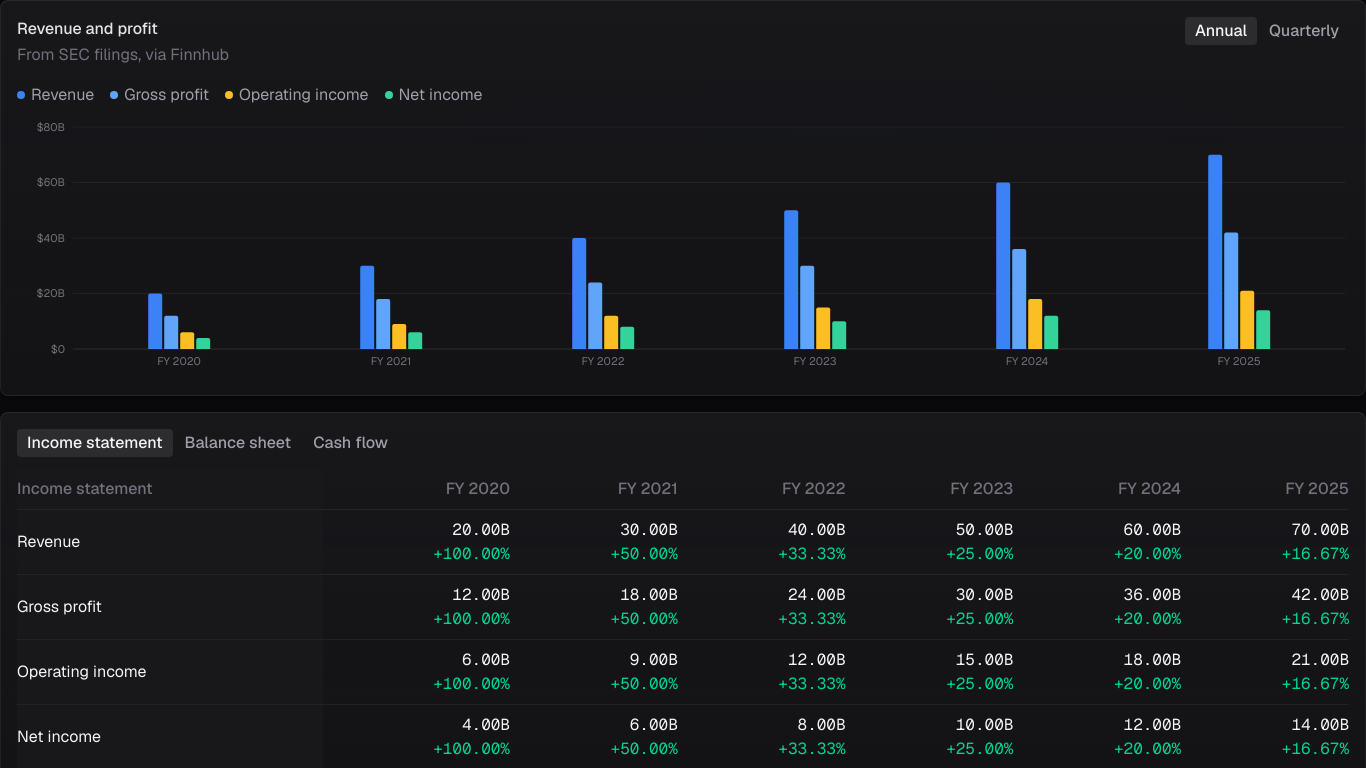
FinancialsTab › switches to quarters
The image size is (1366, 768).
Click the button "Quarterly": (1304, 31) [1259,17,1349,45]
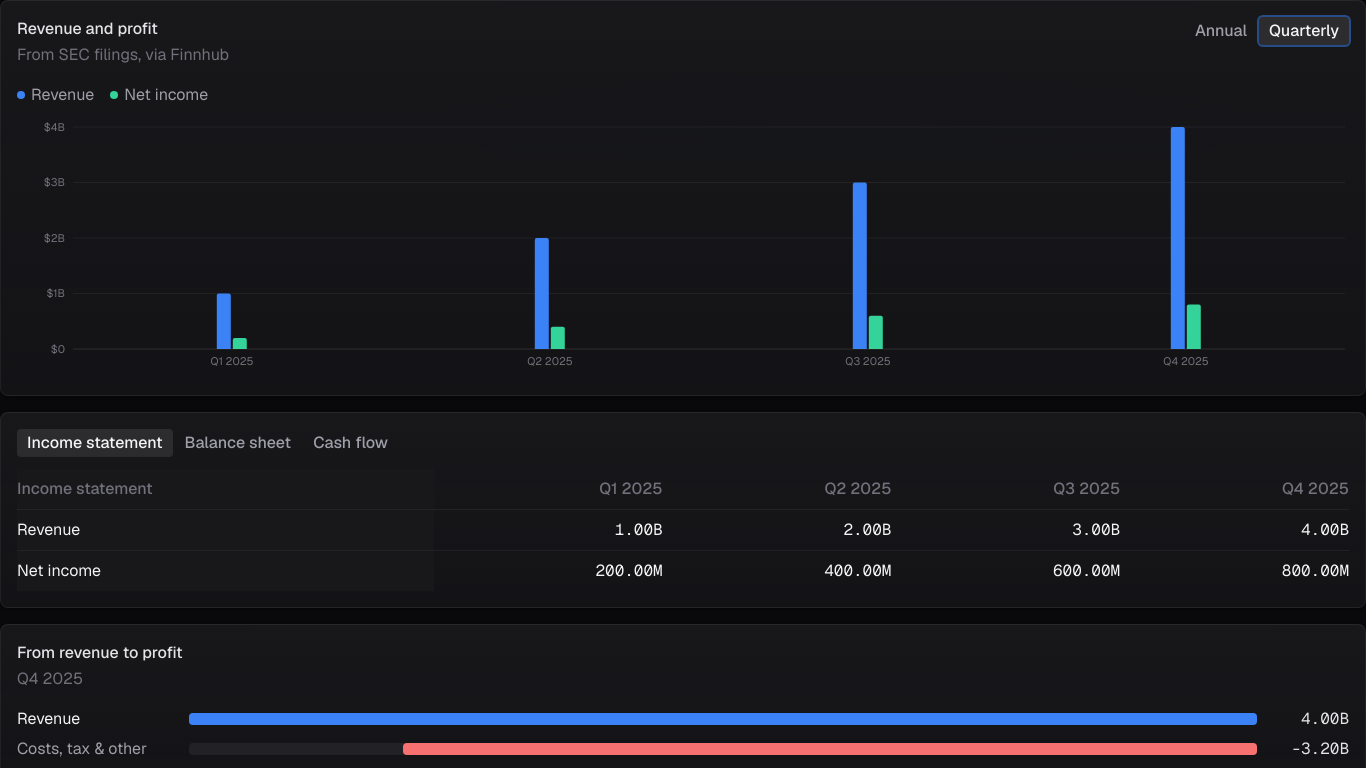
Result: the column headings read "Income statement", "Q1 2025", "Q2 2025", "Q3 2025", "Q4 2025", in this order at [17,469,434,510]; [434,469,663,510]; [663,469,891,510]; [891,469,1120,510]; [1120,469,1349,510]
